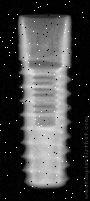Novodent: (18, 15, 72, 189)
